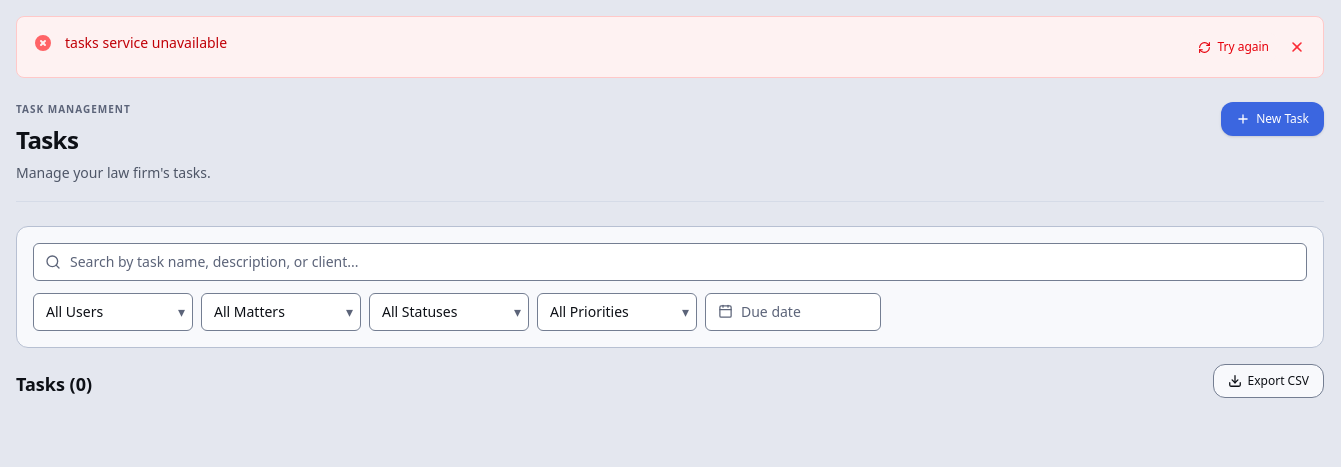
an API failure, with retry › recovers the real list once the retry succeeds
What coordinates should you click on to do the following:
click the button "Try again"
I would click on:
 (1234, 47)
Its box is [1190,33,1277,61].
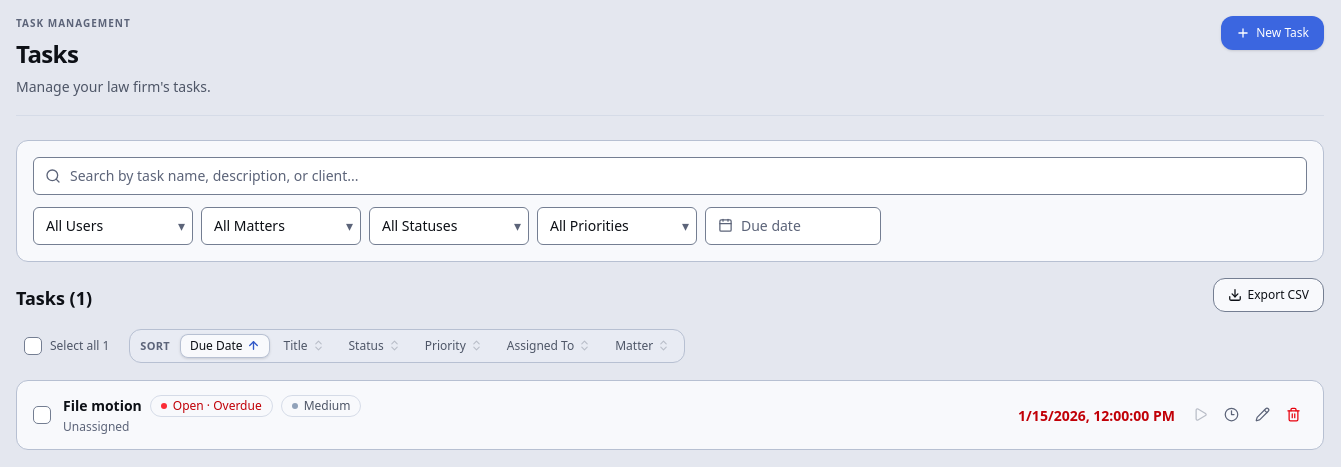
Now the message "tasks service unavailable Try again" is gone
Now the text "File motion" is shown, box [63,396,142,416]
